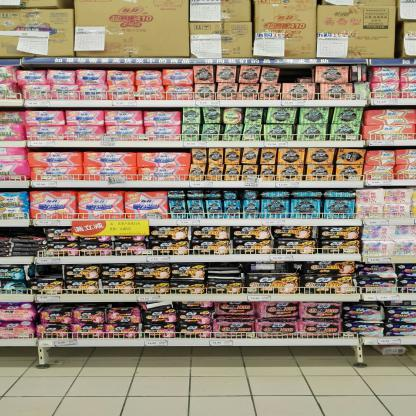Void: (280, 68, 306, 83), (4, 228, 40, 237), (36, 266, 61, 278)
